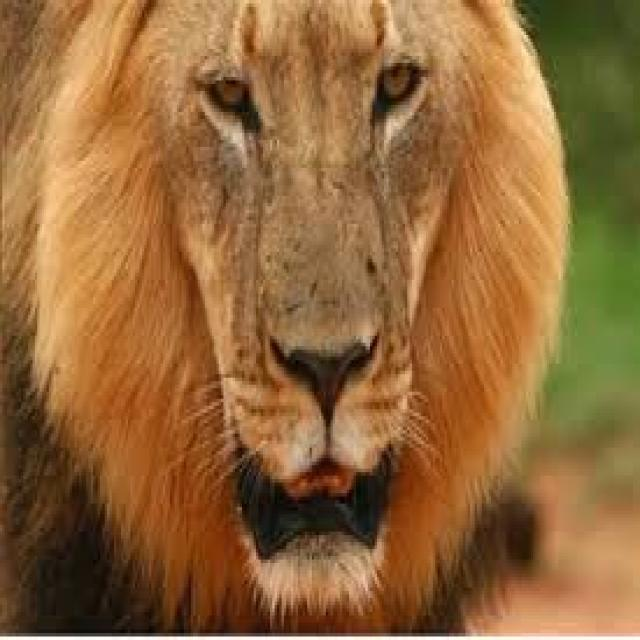Lion: (0, 0, 574, 625)
